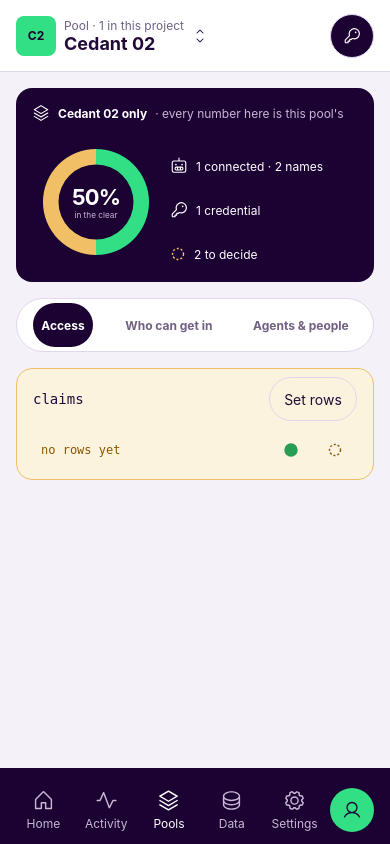
Test: the active-credential band count excludes revoked rows from its destination
Click the button with aria-label "1 active credential": (268, 210) x1=170 y1=188 x2=366 y2=232
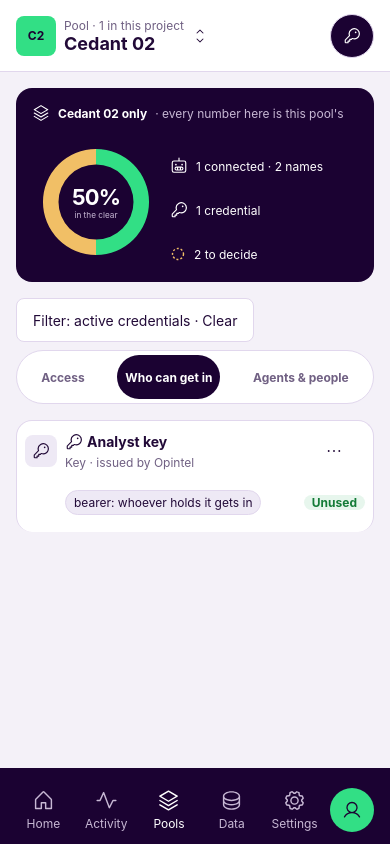
Expected: the tab "Who can get in" is shown, x1=117 y1=355 x2=220 y2=399
Expected: the list shows "Analyst key", x1=87 y1=433 x2=167 y2=450
